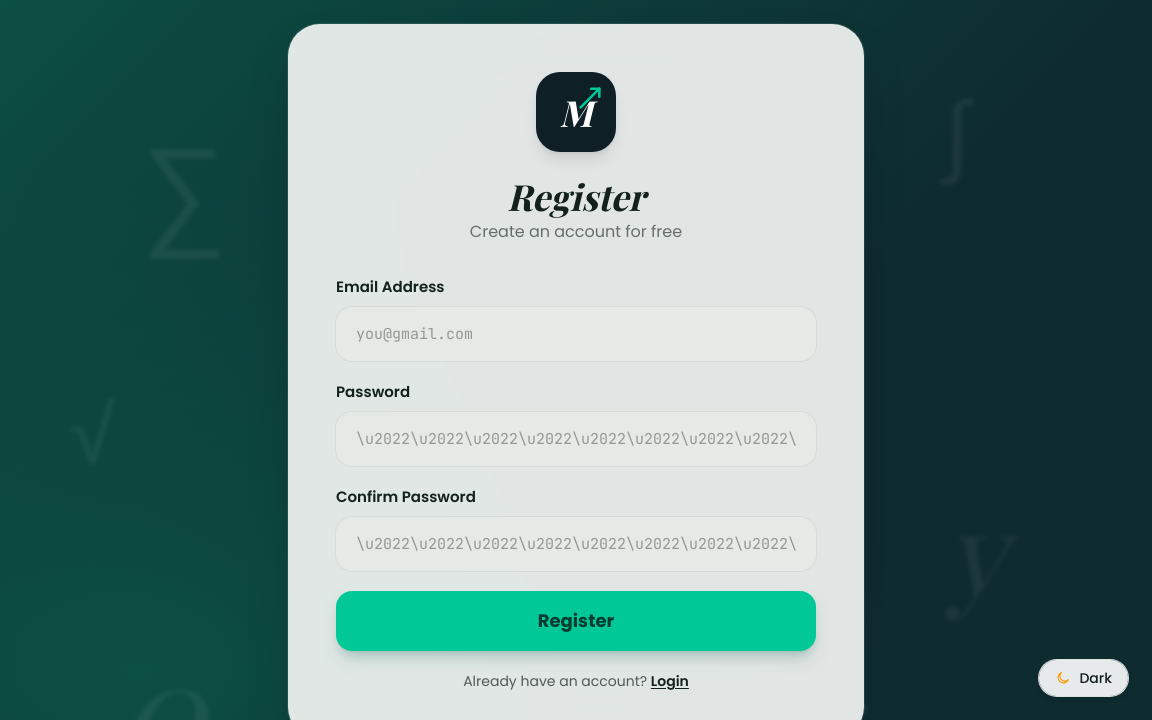
Register Page › shows error when email is empty
Click the button "Register": [576, 621] box [336, 591, 816, 651]
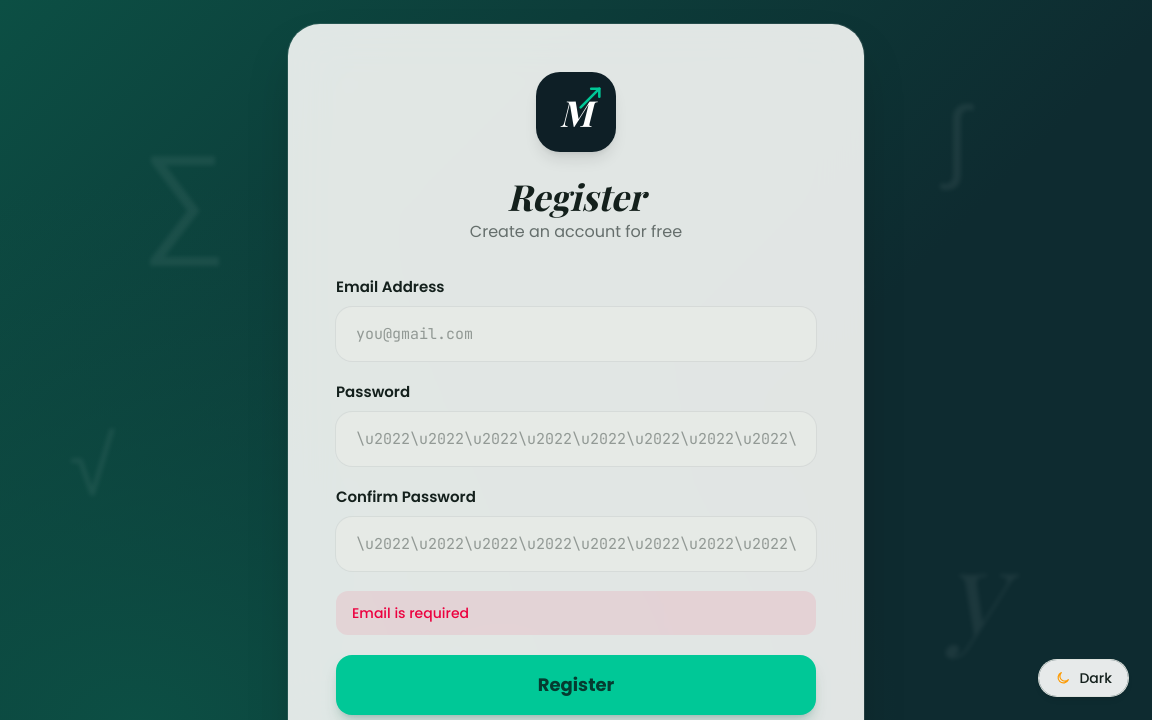
Expected: the text "Email is required" is shown, [336, 591, 816, 635]
